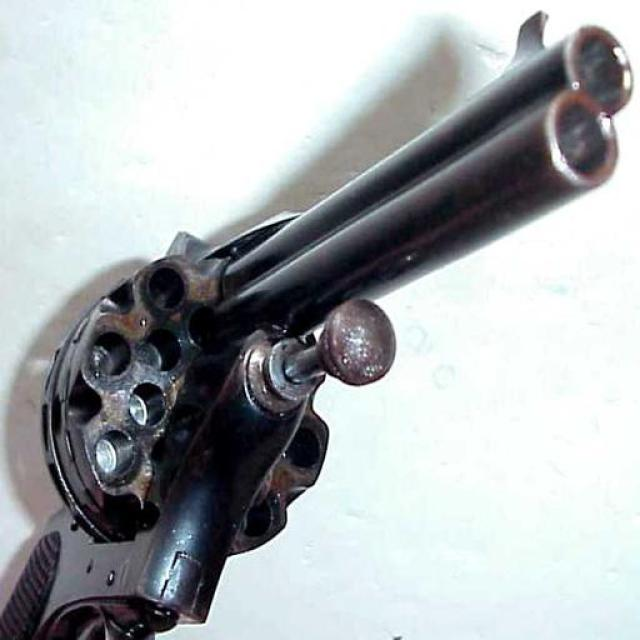pistol: (1, 5, 627, 637)
